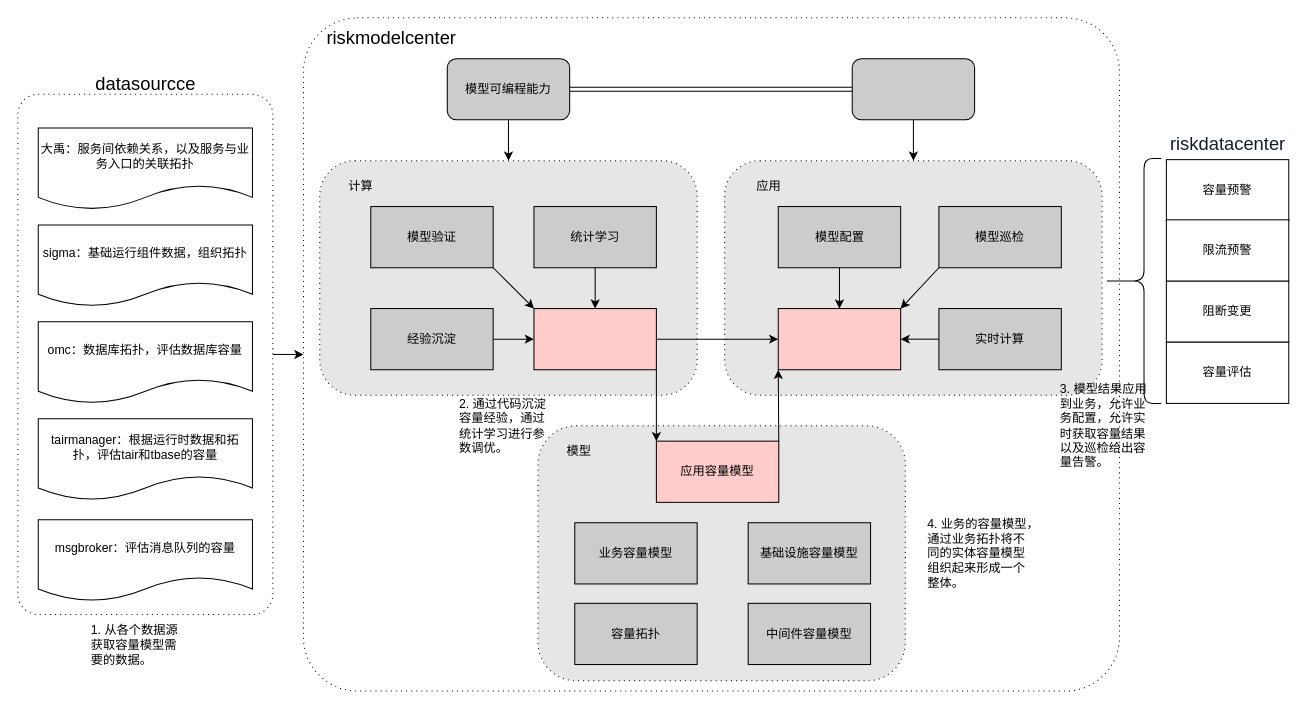
This 1312x709 diagram has some shape labels left out. Here are the shapes that lost their labels. From the top down, the centre of each, then its label:
At point (913, 89): "模型人工配置".
At point (594, 339): "模型优化".
At point (839, 339): "计算调度".
